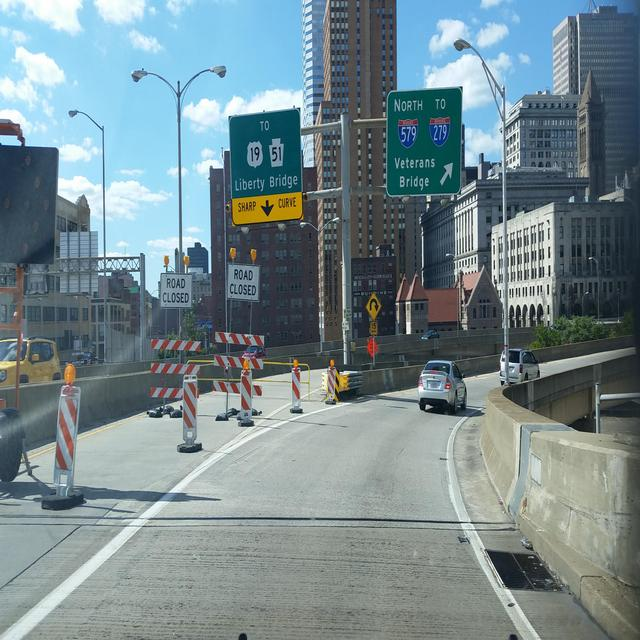Barrier: (479, 326, 639, 639), (186, 328, 503, 394), (0, 360, 74, 446), (73, 359, 163, 428), (532, 317, 633, 363), (198, 382, 212, 391)
Car: (0, 335, 97, 385), (418, 329, 466, 413), (499, 346, 539, 385), (251, 345, 268, 357)
Vegetation: (529, 308, 632, 349)
